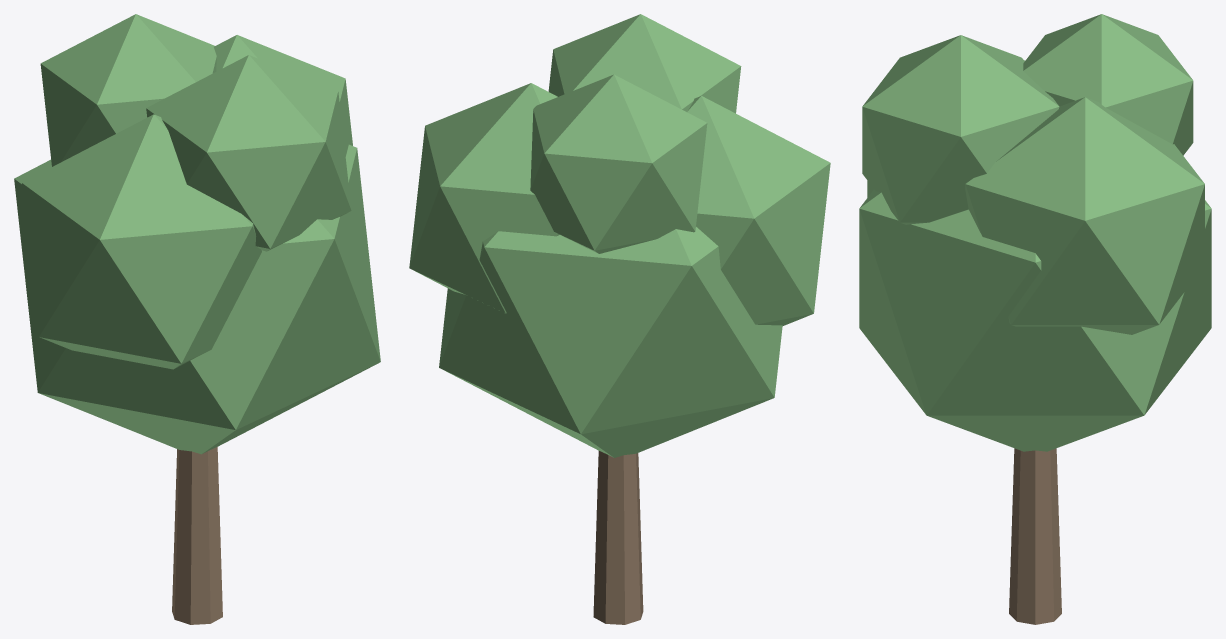
The model's file is tree_round.glb.
3 views of the same model, side by side, from view 1: azimuth 30°, elevation 25°; view 2: azimuth 150°, elevation 25°; view 3: azimuth 270°, elevation 25° (orthographic). The views are drawn at different scales.
Parts seen in each view (by area): view 1: round_crown2, round_crown0, round_crown3, round_crown4, round_trunk, round_crown1; view 2: round_crown0, round_crown4, round_crown2, round_crown1, round_crown3, round_trunk; view 3: round_crown0, round_crown1, round_crown3, round_crown4, round_trunk.
Boxes of the visible parts, x1,y1,x2,y2 form: round_crown2: [22, 114, 261, 369]; round_crown0: [14, 144, 380, 454]; round_crown3: [146, 55, 351, 251]; round_crown4: [40, 14, 216, 166]; round_trunk: [172, 447, 222, 624]; round_crown1: [214, 35, 352, 156]; round_crown0: [439, 227, 782, 457]; round_crown4: [530, 74, 707, 253]; round_crown2: [687, 96, 830, 325]; round_crown1: [409, 83, 559, 313]; round_crown3: [548, 14, 741, 113]; round_trunk: [593, 451, 643, 624]; round_crown0: [859, 189, 1211, 451]; round_crown1: [965, 97, 1204, 334]; round_crown3: [862, 35, 1059, 224]; round_crown4: [1023, 14, 1193, 155]; round_trunk: [1009, 448, 1061, 624].
Bounding box in the file's own units: 4.93 × 7.8 × 4.25.
